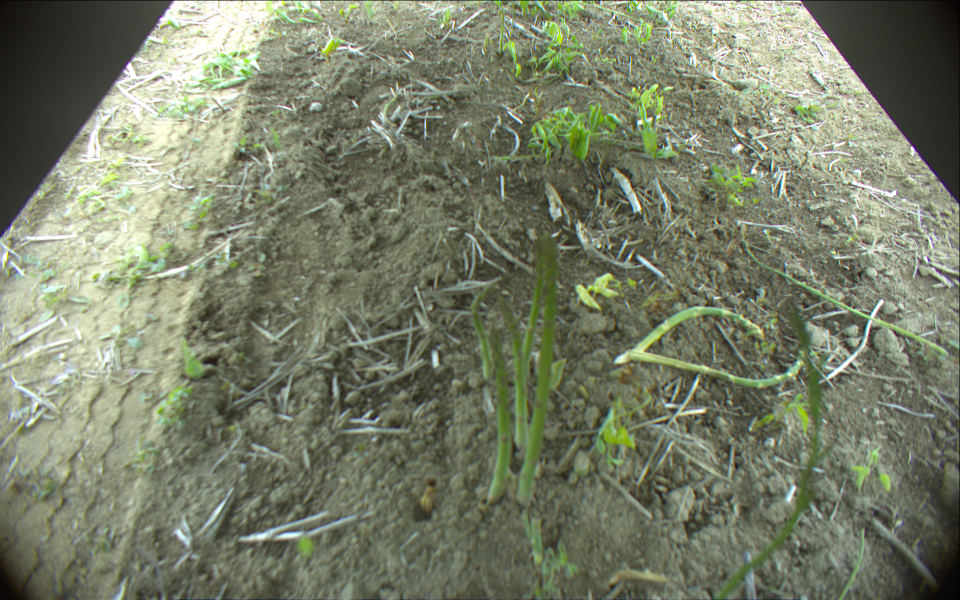aspa: (717, 311, 825, 600), (744, 239, 953, 360), (517, 239, 558, 508), (615, 305, 766, 364), (631, 351, 806, 390), (486, 330, 512, 511), (497, 290, 527, 446), (520, 240, 541, 366), (468, 284, 492, 382)
